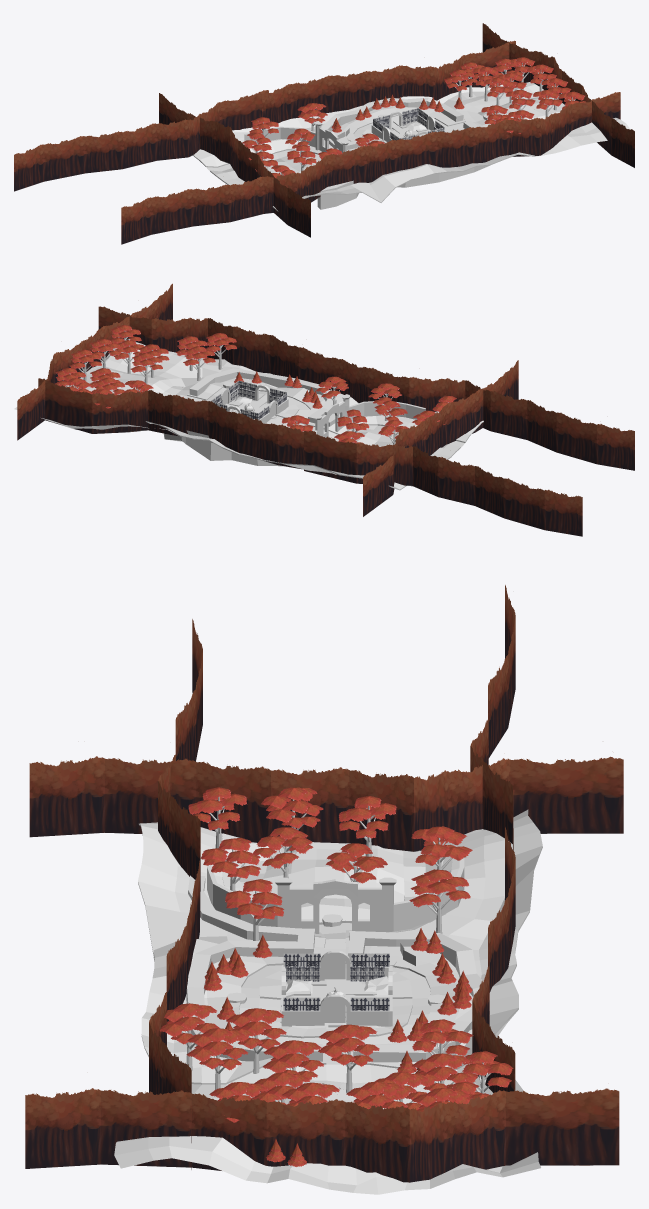
Rendered from red_forest.fbx.
3 views of the same model, one above another, from view 1: azimuth 30°, elevation 25°; view 2: azimuth 150°, elevation 25°; view 3: azimuth 270°, elevation 25° (orthographic). The views are drawn at different scales.
Visible parts, largest first — view 1: ground_trailer.004; view 2: ground_trailer.004; view 3: ground_trailer.004.
Boxes of the visible parts, x1=… form: ground_trailer.004: x1=14, y1=23, x2=634, y2=244; ground_trailer.004: x1=14, y1=283, x2=634, y2=536; ground_trailer.004: x1=25, y1=585, x2=623, y2=1194.
Size of the model in its own units: 117022 by 13216 by 57262.
